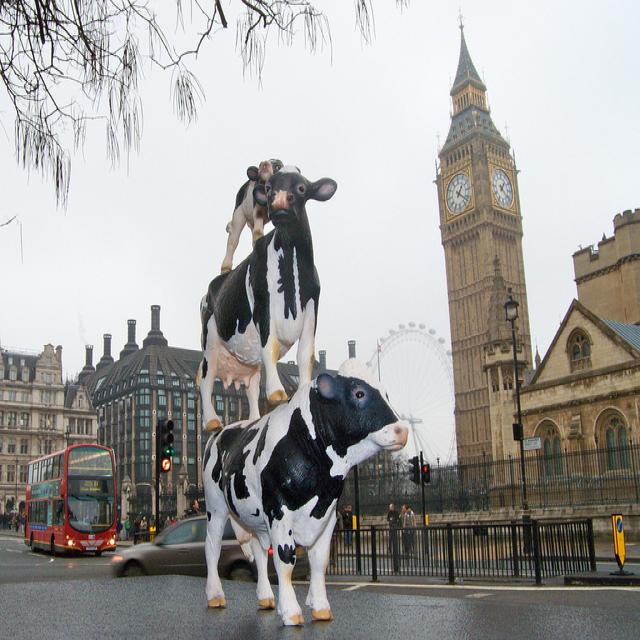Vehicle: (23, 440, 118, 555), (112, 515, 260, 582)
